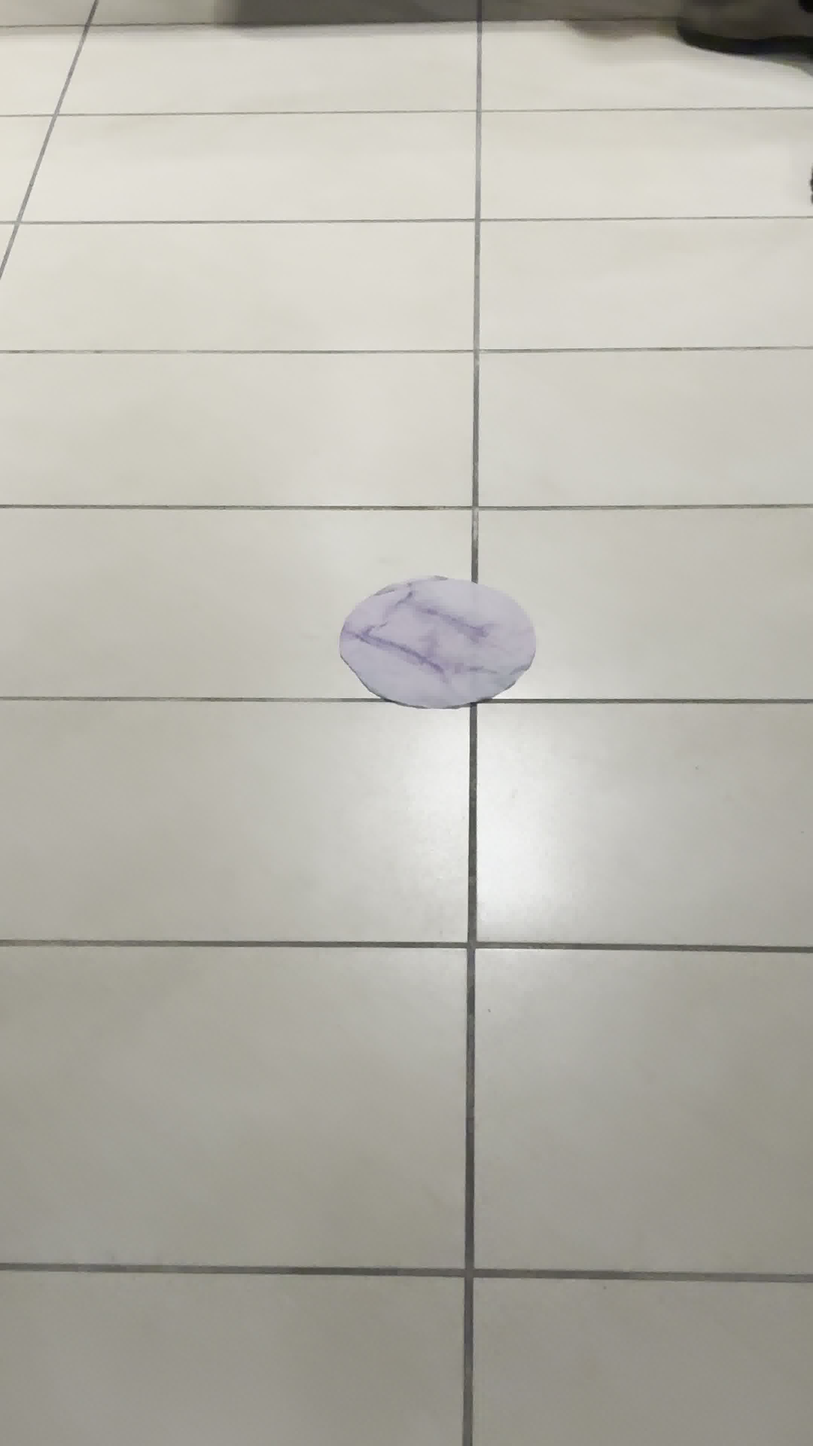Target: (336, 575, 535, 710)
